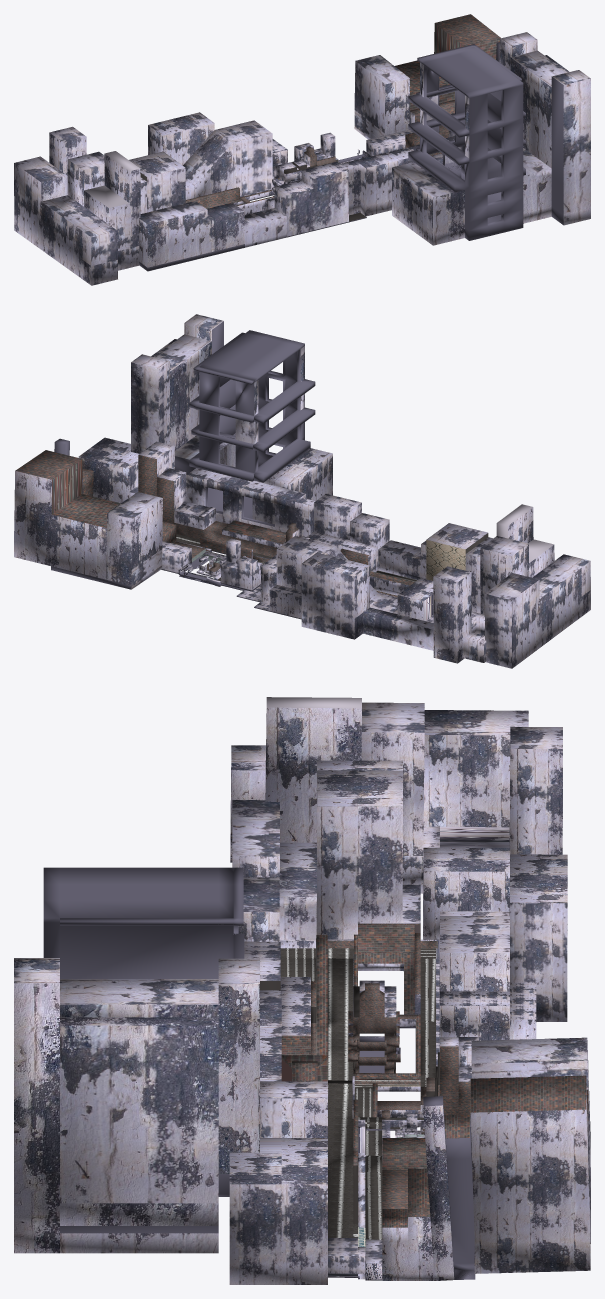
File: decor.obj
The picture shows the model from 3 angles, top to bottom: view 1: azimuth 30°, elevation 25°; view 2: azimuth 150°, elevation 25°; view 3: azimuth 270°, elevation 25°; orthographic projection. The views are drawn at different scales.
Parts seen in each view (by area): view 1: decor_Cube.008; view 2: decor_Cube.008; view 3: decor_Cube.008.
Boxes of the visible parts, x1,y1,x2,y2 form: decor_Cube.008: (14,14,590,285); decor_Cube.008: (14,314,590,668); decor_Cube.008: (14,697,590,1284).
Bounding box in the file's own units: 23242 × 6919 × 12674.
Materials: 5 (5 with a texture image).
